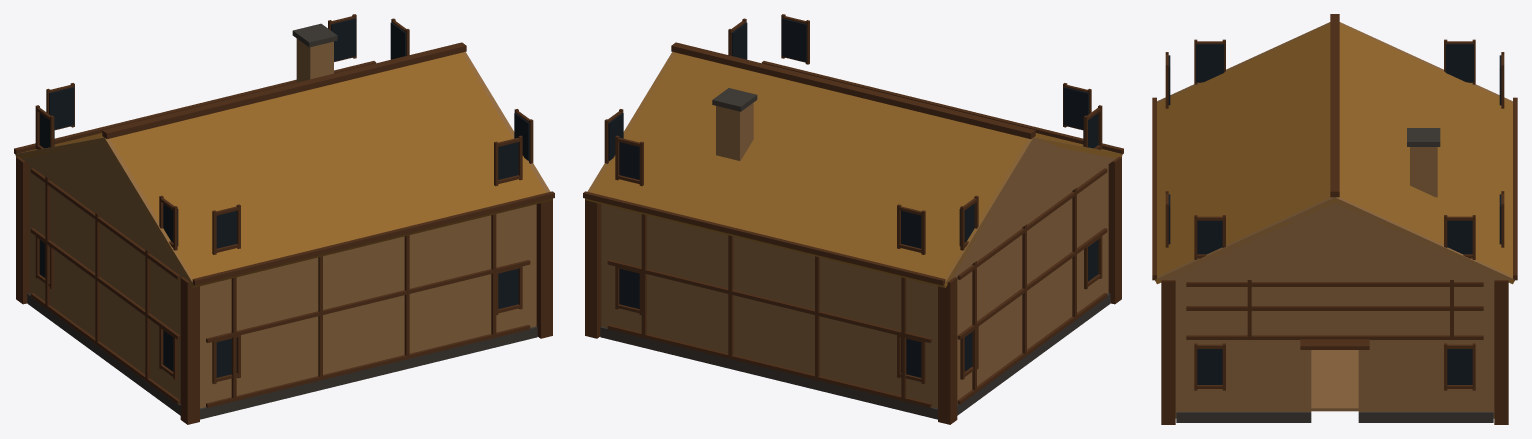
File: miller_house.glb
3 renders of one model, left to right at view 1: azimuth 30°, elevation 25°; view 2: azimuth 150°, elevation 25°; view 3: azimuth 270°, elevation 25°, orthographic.
Parts seen in each view (by area): view 1: miller_house_plank, miller_house_roof_straw, miller_house_timber, miller_house_glass, miller_house_plinth; view 2: miller_house_plank, miller_house_roof_straw, miller_house_timber, miller_house_glass, miller_house_plinth; view 3: miller_house_roof_straw, miller_house_plank, miller_house_timber, miller_house_glass, miller_house_plinth.
Part boxes in pixels (bbox=[...]): miller_house_plank: bbox=[16, 38, 550, 408]; miller_house_roof_straw: bbox=[15, 52, 552, 287]; miller_house_timber: bbox=[14, 14, 554, 424]; miller_house_glass: bbox=[39, 18, 529, 377]; miller_house_plinth: bbox=[27, 23, 537, 419]; miller_house_plank: bbox=[587, 52, 1120, 408]; miller_house_roof_straw: bbox=[585, 52, 1122, 287]; miller_house_timber: bbox=[583, 14, 1123, 424]; miller_house_glass: bbox=[608, 18, 1098, 377]; miller_house_plinth: bbox=[600, 88, 1110, 419]; miller_house_roof_straw: bbox=[1155, 22, 1514, 284]; miller_house_plank: bbox=[1155, 22, 1514, 418]; miller_house_timber: bbox=[1152, 14, 1517, 424]; miller_house_glass: bbox=[1168, 44, 1501, 384]; miller_house_plinth: bbox=[1176, 128, 1493, 422].
Size of the model in its own units: 11.11 by 6.59 by 9.22.
